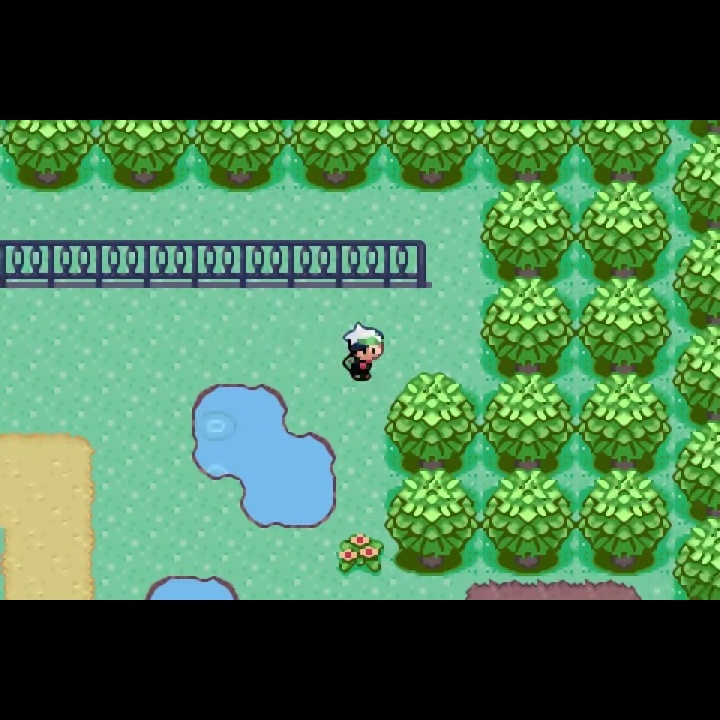npc: (340, 318, 389, 385)
wall: (576, 467, 673, 577), (480, 467, 576, 576), (384, 469, 480, 576), (575, 371, 675, 472), (574, 177, 672, 276), (480, 372, 577, 472), (384, 372, 480, 471), (481, 277, 577, 374), (480, 180, 576, 277), (576, 277, 673, 372), (95, 120, 194, 190), (288, 120, 385, 191), (1, 119, 96, 191), (384, 121, 480, 192), (192, 121, 287, 192), (481, 121, 577, 182), (578, 121, 674, 177), (672, 323, 720, 419), (673, 419, 720, 517), (673, 229, 720, 325), (674, 134, 720, 232), (673, 517, 720, 601), (674, 120, 720, 141)
